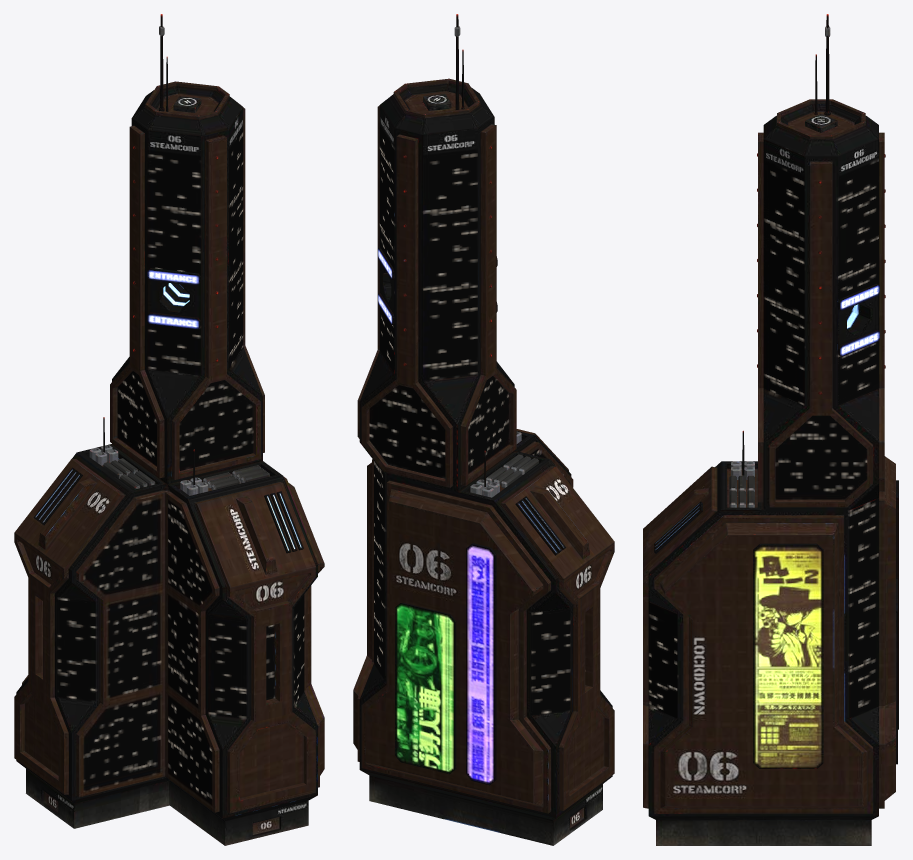
Rendered from scifi-cyberpunk-building3.glb.
3 views of the same model, side by side, from view 1: azimuth 30°, elevation 25°; view 2: azimuth 150°, elevation 25°; view 3: azimuth 270°, elevation 25° (orthographic). The views are drawn at different scales.
Visible parts, largest first — view 1: 1K_scifi_building_06.002; view 2: 1K_scifi_building_06.002; view 3: 1K_scifi_building_06.002.
Boxes of the visible parts, left/top/right/bottom form: 1K_scifi_building_06.002: left=14, top=14, right=324, bottom=845; 1K_scifi_building_06.002: left=353, top=14, right=614, bottom=845; 1K_scifi_building_06.002: left=643, top=14, right=898, bottom=845.
Size of the model in its own units: 81.11 by 280 by 81.21.
1 material, 1 textured.
